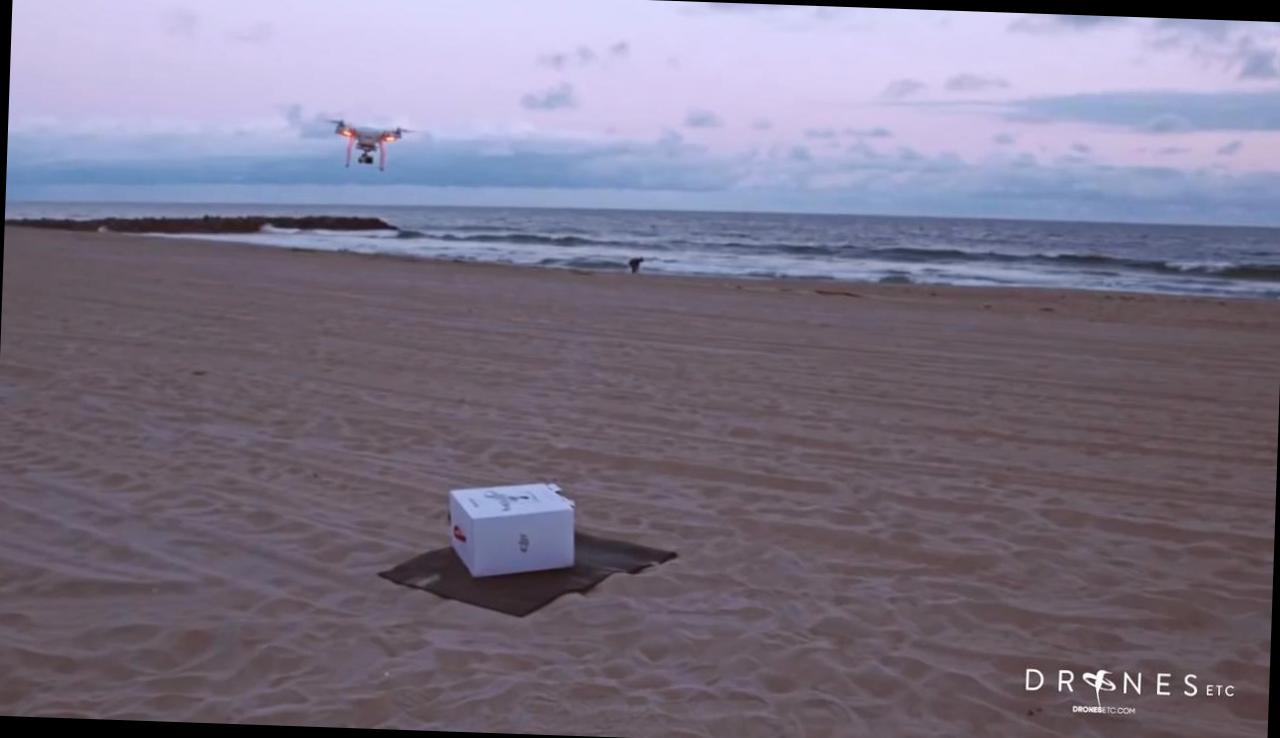drone: (326, 114, 408, 171)
